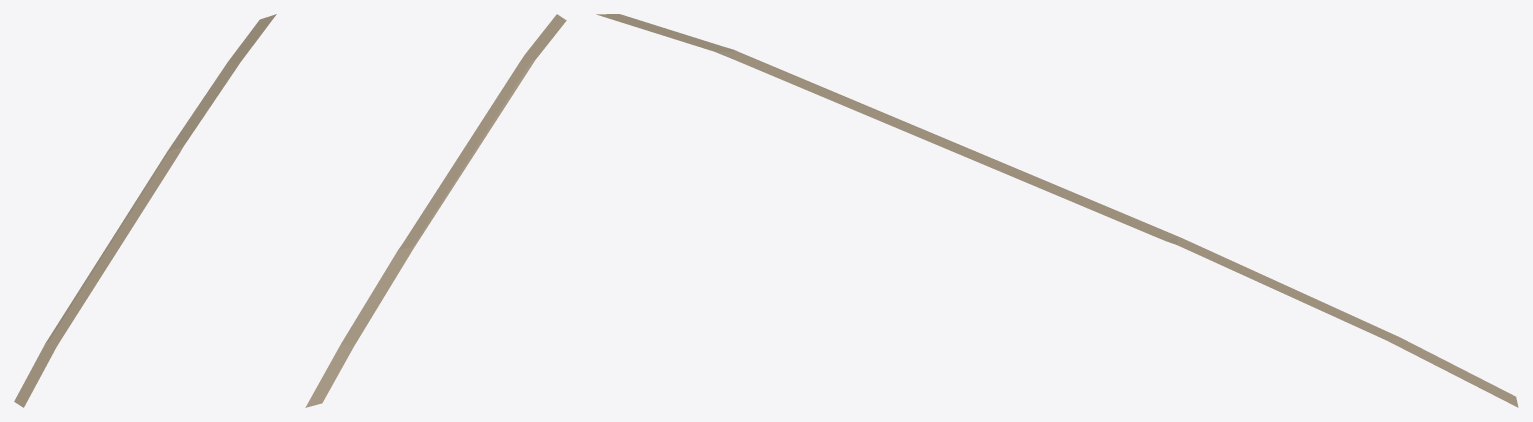
Rendered from farm_1_-5_track.glb.
3 renders of one model, left to right at view 1: azimuth 30°, elevation 25°; view 2: azimuth 210°, elevation 25°; view 3: azimuth 270°, elevation 25°, orthographic. The views are drawn at different scales.
Visible parts, largest first — view 1: geometry_0; view 2: geometry_0; view 3: geometry_0.
Boxes of the visible parts, box(x1,y1,x2,y2) form: geometry_0: box(14, 14, 276, 407); geometry_0: box(305, 14, 566, 407); geometry_0: box(596, 14, 1518, 407).
Bounding box in the file's own units: 168 × 3.66 × 167.
